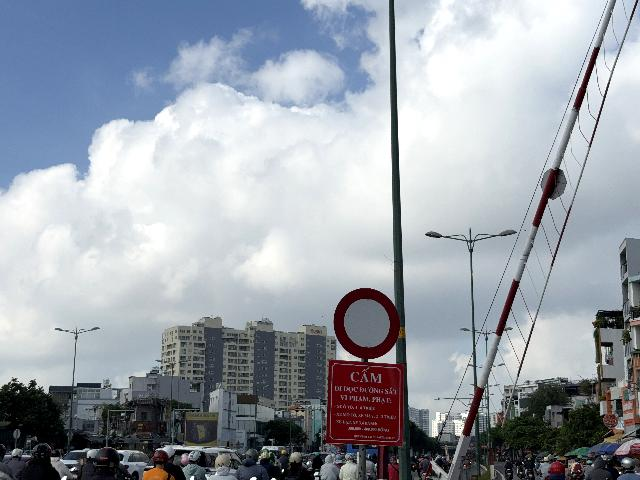duong-cam: (333, 288, 400, 359)
